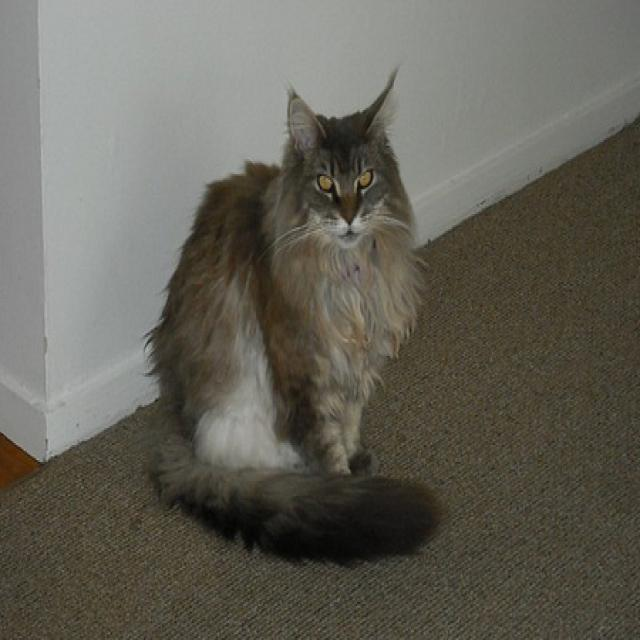Maine Coon: (142, 66, 446, 564)
